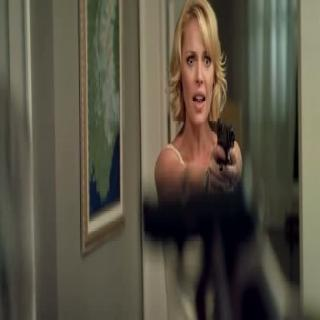gun: (208, 112, 239, 191)
